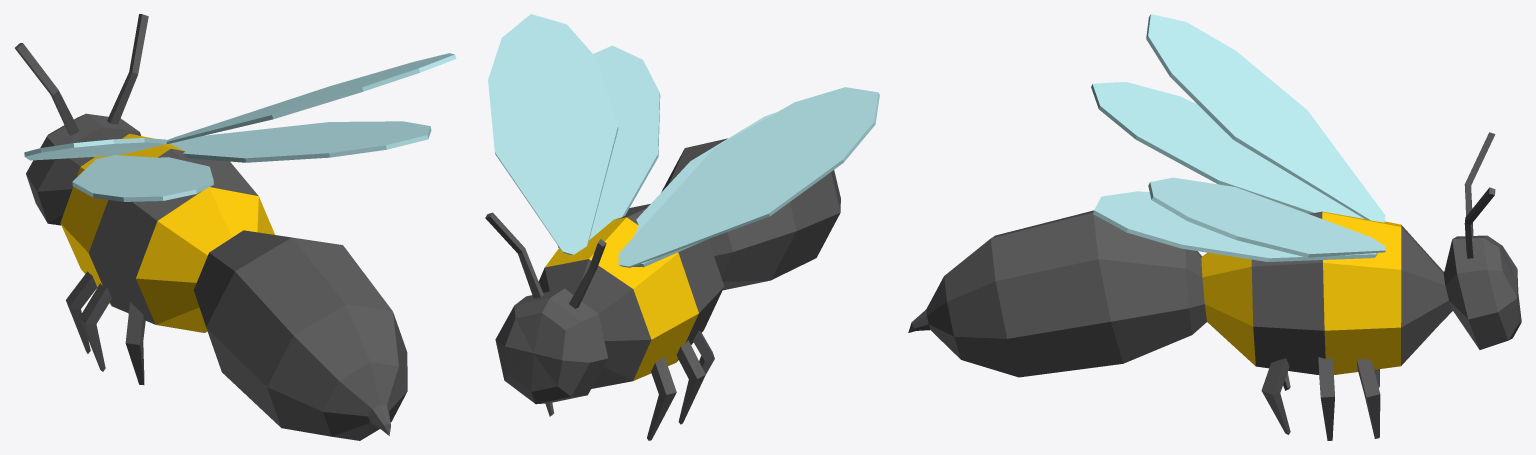
Rendered from bee.glb.
3 views of the same model, side by side, from view 1: azimuth 30°, elevation 25°; view 2: azimuth 150°, elevation 25°; view 3: azimuth 270°, elevation 25° (orthographic). The views are drawn at different scales.
Parts seen in each view (by area): view 1: Bee_Circle; view 2: Bee_Circle; view 3: Bee_Circle.
Boxes of the visible parts, x1,y1,x2,y2 form: Bee_Circle: (15,14,456,440); Bee_Circle: (485,14,879,440); Bee_Circle: (908,14,1521,440).
Bounding box in the file's own units: 8.24 × 6.32 × 11.24.
